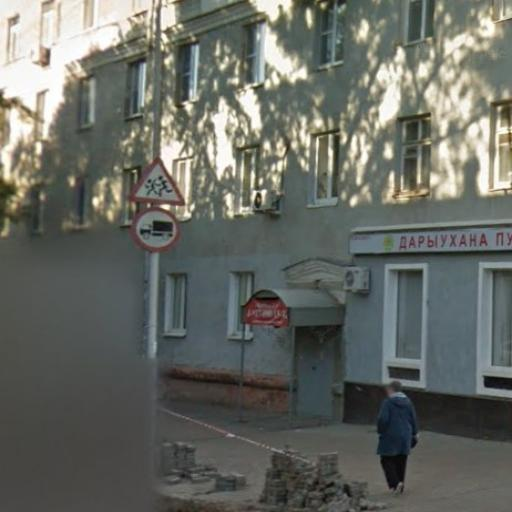traffic_sign: (124, 152, 194, 211), (129, 205, 184, 259)
